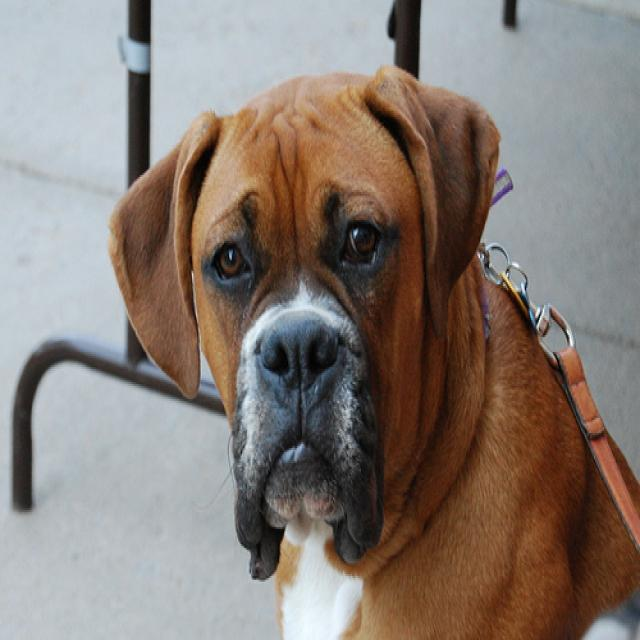dog-saint_bernard: (106, 56, 637, 636)
